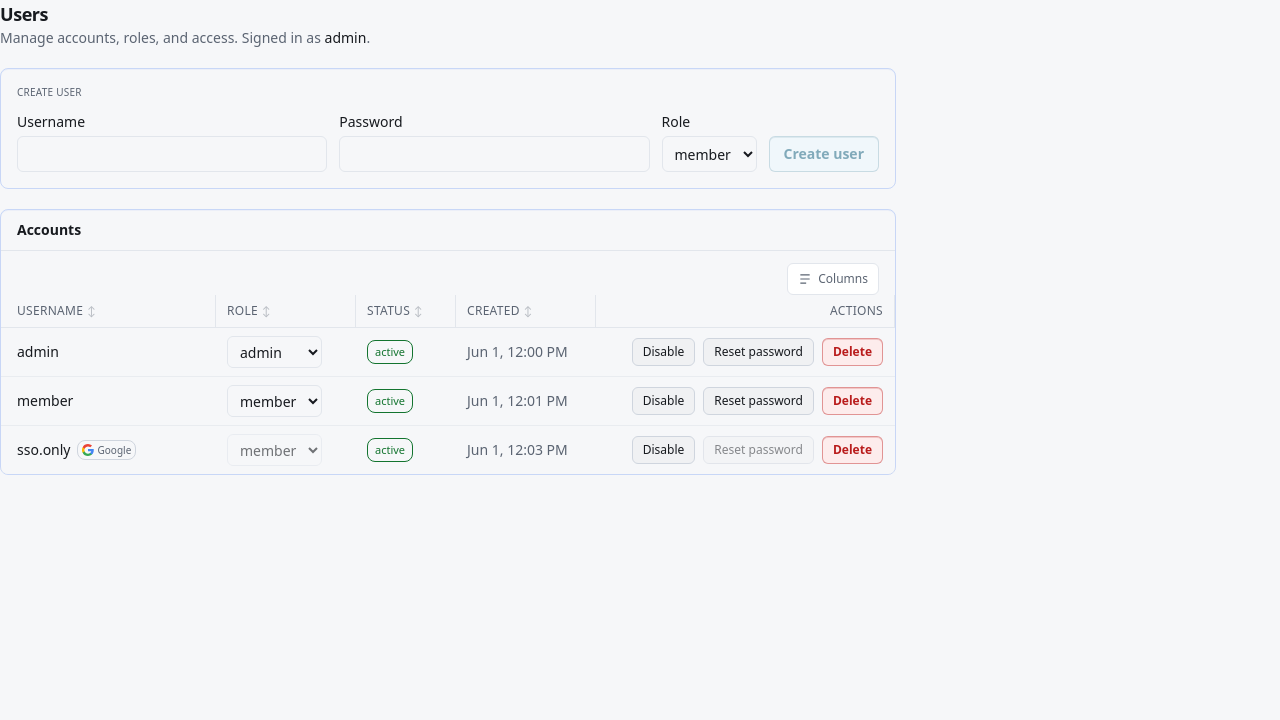
Test case: AdminPage confirmations › asks before the signed-in admin demotes themselves
Select "admin" in the dropdown named "Role for member" at [274, 401], box [227,385,322,417]
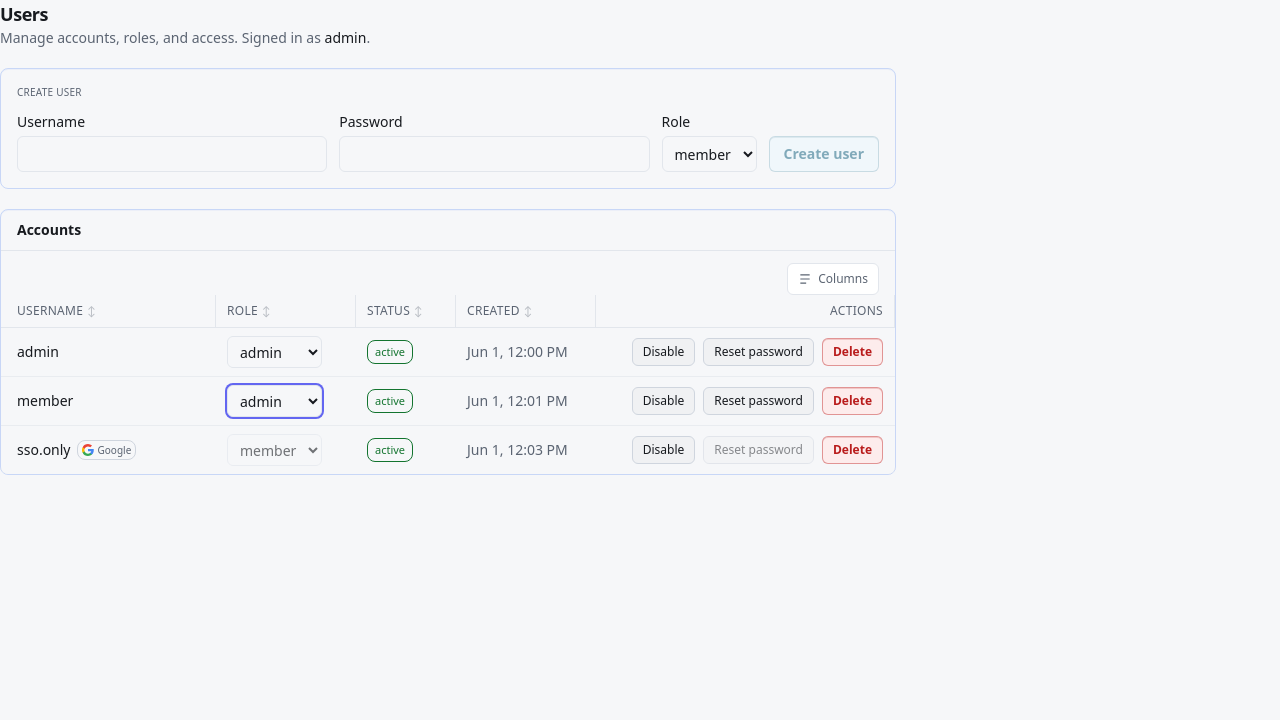
Select "member" in the dropdown named "Role for admin" at [274, 352], box [227,336,322,368]
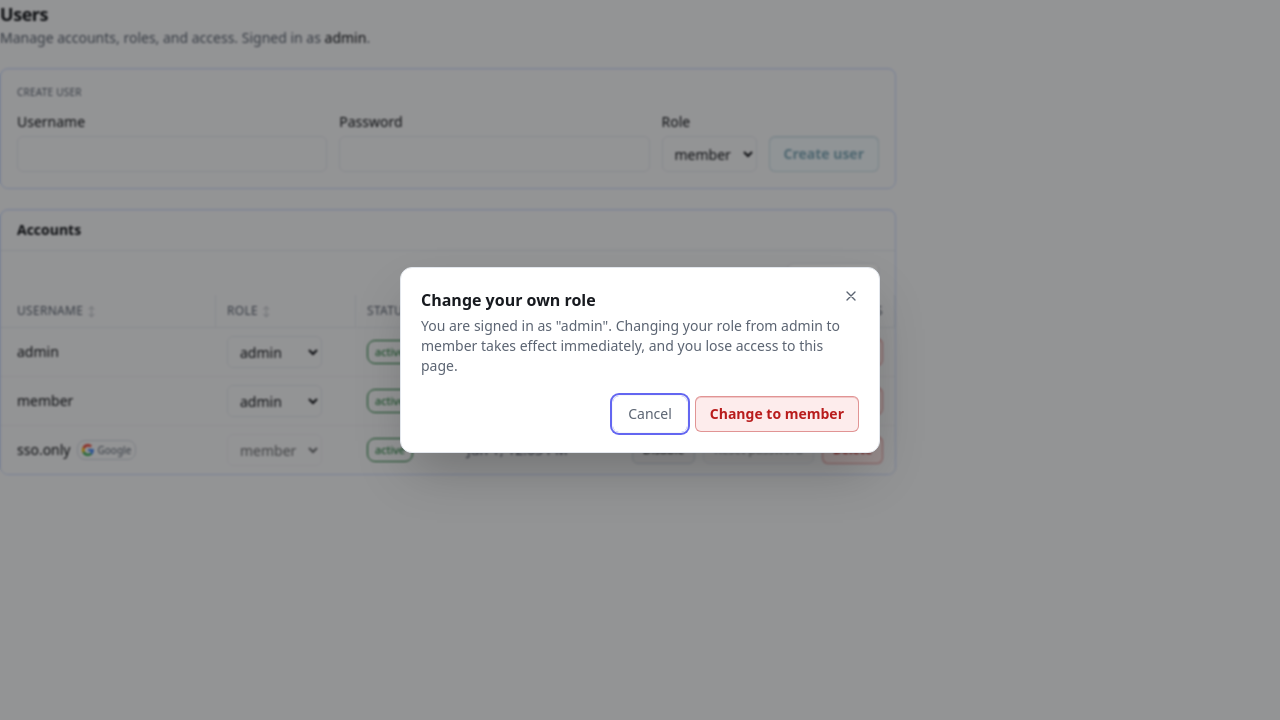
Now the dialog shows "Change your own role", box [421,289,596,311]
Click the button "Change to member" at [777, 414], box [695,396,859,432]
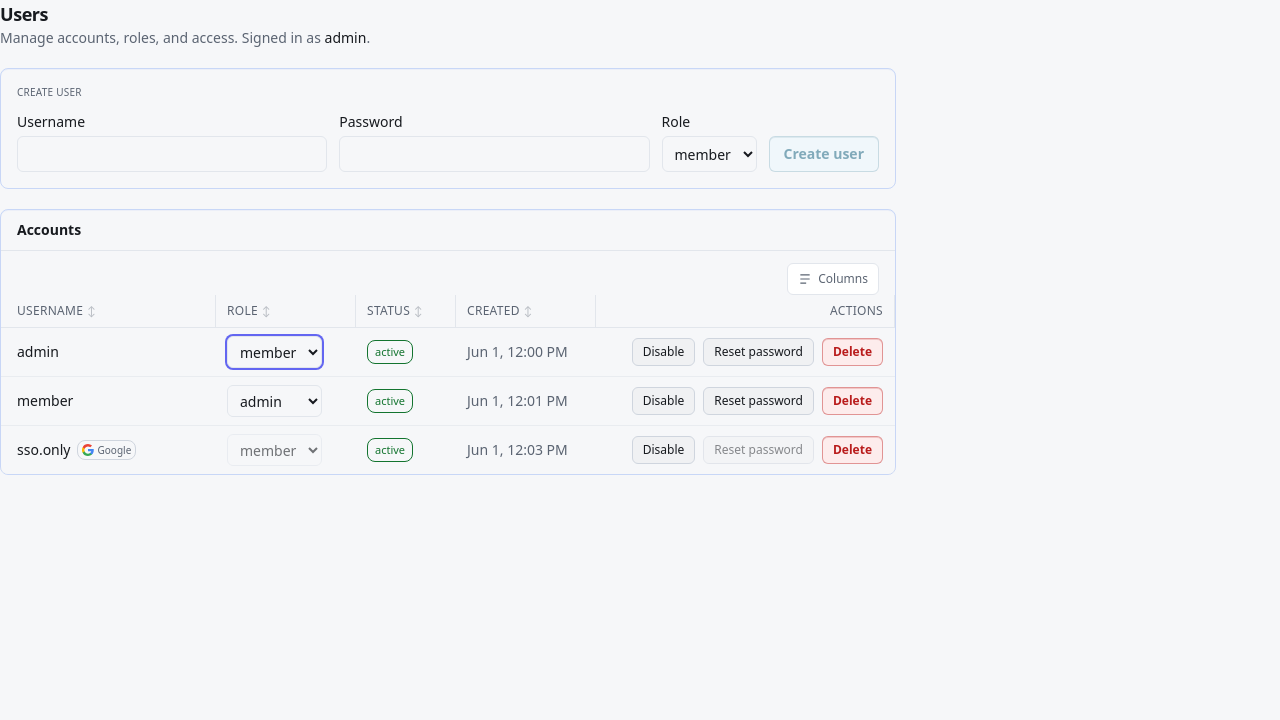
Now the dialog is gone
